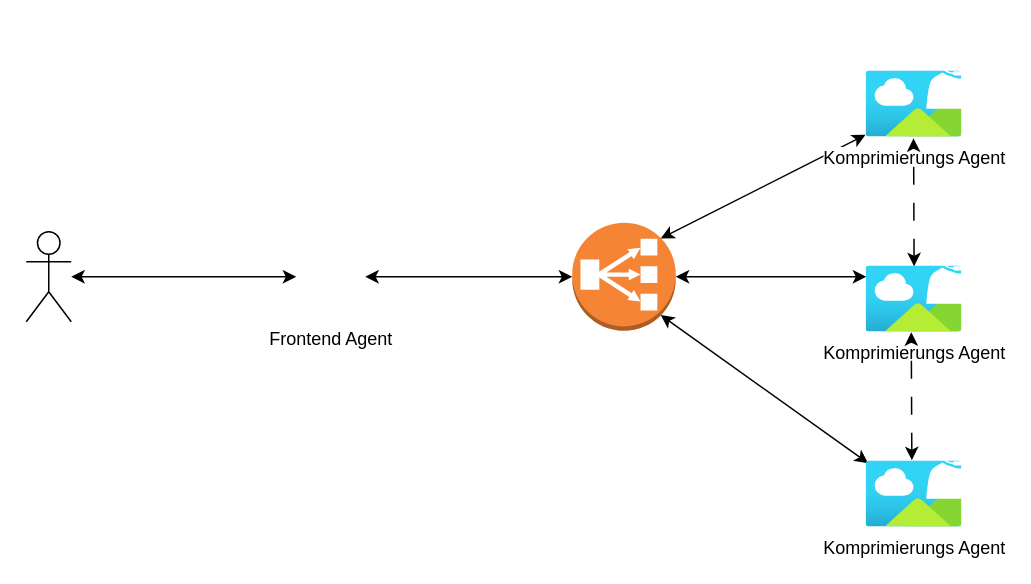
Image size: 1031x584. Some labels were removed from this diagram. Here are the shapes that lost their labels. From the top down, the centre of each, then its label:
At (x=48, y=276): "User".
At (x=623, y=276): "K8 Loadbalcner".
